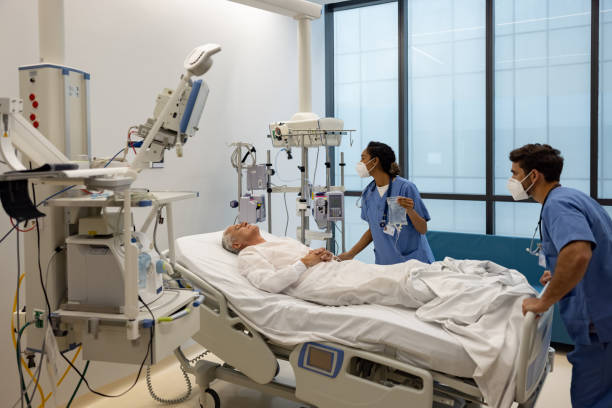bedrail: (165, 258, 280, 384), (289, 341, 432, 408)
bedside_monitor: (154, 80, 215, 146)
foot_board: (518, 276, 552, 408)
hospital_bed: (162, 222, 555, 408)
infusion_pump: (310, 190, 348, 227), (235, 192, 272, 226)
iv_pole: (291, 128, 357, 254), (277, 131, 331, 254), (226, 137, 255, 199)
patient: (222, 220, 522, 308)
staff: (508, 142, 612, 408), (336, 140, 439, 264)
ventilator: (5, 45, 209, 372)
